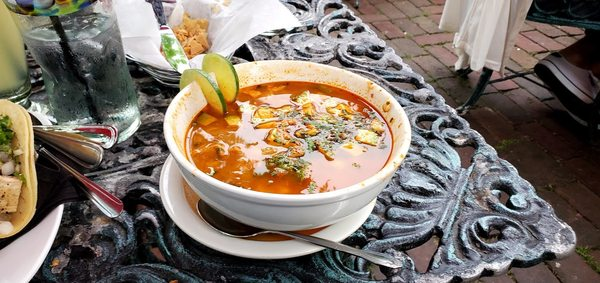salad: (36, 140, 124, 218)
soup: (0, 97, 39, 240)
sushi: (163, 57, 412, 240)
